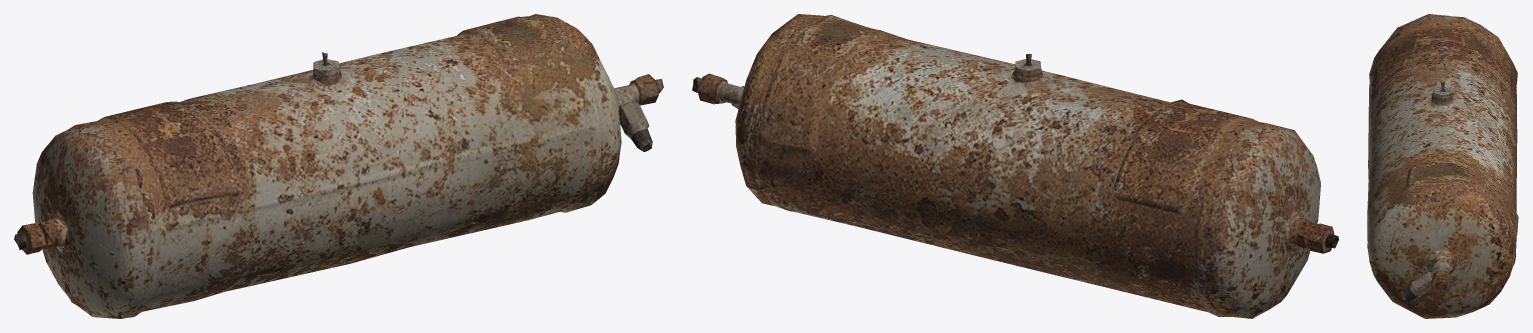
The model's file is SM_Ind_Jun_Tank_Metal_Rusty_01.gltf.
The picture shows the model from 3 angles, left to right: view 1: azimuth 30°, elevation 25°; view 2: azimuth 150°, elevation 25°; view 3: azimuth 270°, elevation 25°; orthographic projection. The views are drawn at different scales.
Parts seen in each view (by area): view 1: SM_Ind_Jun_Tank_Metal_Rusty_01; view 2: SM_Ind_Jun_Tank_Metal_Rusty_01; view 3: SM_Ind_Jun_Tank_Metal_Rusty_01.
Boxes of the visible parts, box(x1,y1,x2,y2) form: SM_Ind_Jun_Tank_Metal_Rusty_01: box(14, 14, 663, 318); SM_Ind_Jun_Tank_Metal_Rusty_01: box(692, 14, 1338, 318); SM_Ind_Jun_Tank_Metal_Rusty_01: box(1367, 14, 1518, 318).
Size of the model in its own units: 0.7693 by 0.2349 by 0.2107.
Materials: 1 (1 with a texture image).
